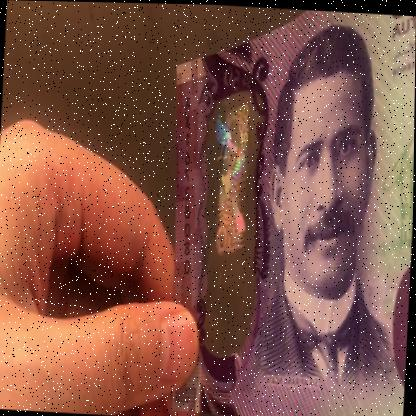50F: (206, 97, 256, 322)
